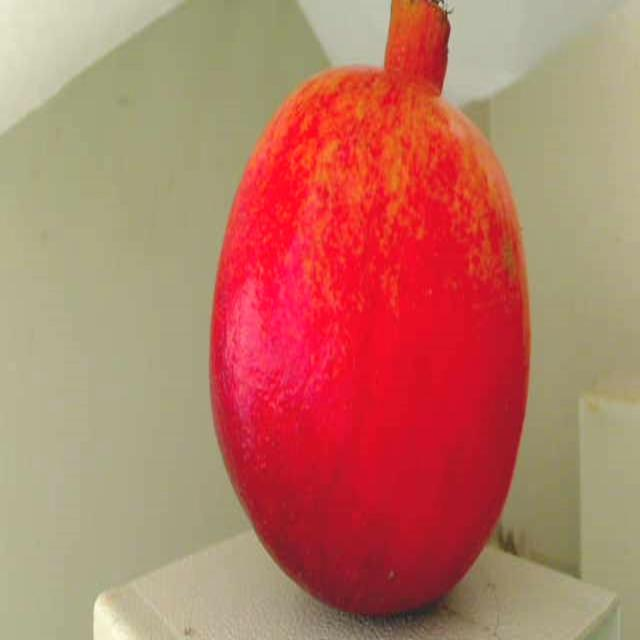pomegranate: (202, 0, 534, 640)
